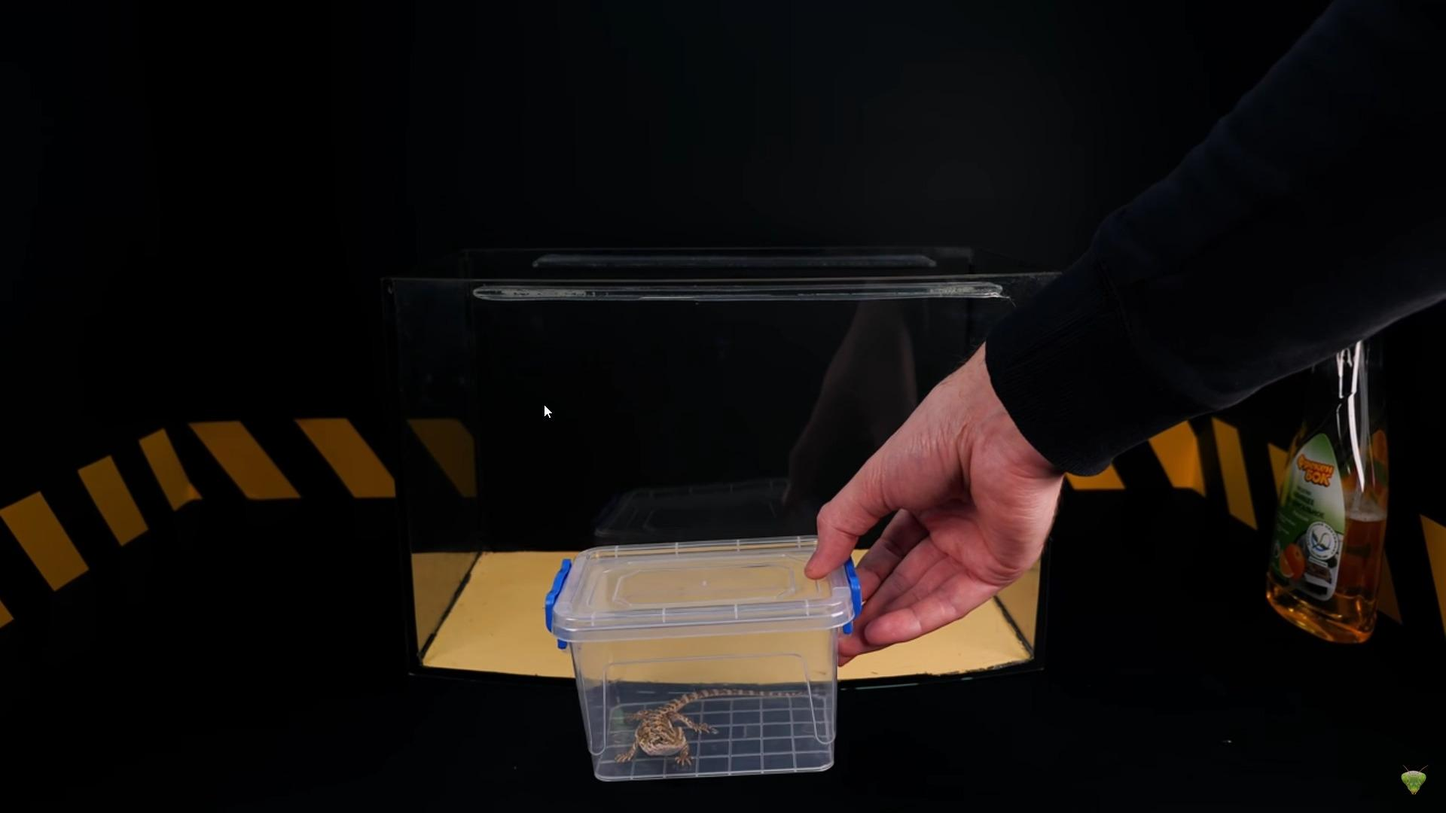lizard: (615, 678, 819, 764)
